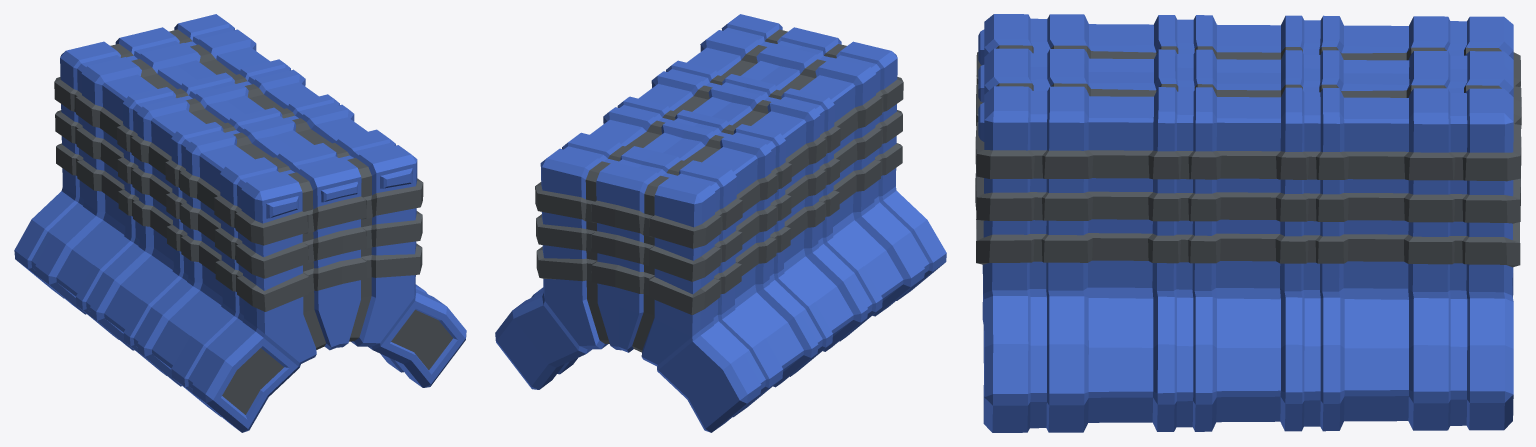
Rendered from Fighter_03_Engine_Blue.fbx.
3 renders of one model, left to right at view 1: azimuth 30°, elevation 25°; view 2: azimuth 150°, elevation 25°; view 3: azimuth 270°, elevation 25°, orthographic. The views are drawn at different scales.
Parts seen in each view (by area): view 1: Fighter_03_Engine_Blue; view 2: Fighter_03_Engine_Blue; view 3: Fighter_03_Engine_Blue.
Boxes of the visible parts, x1=… form: Fighter_03_Engine_Blue: x1=14, y1=14, x2=466, y2=432; Fighter_03_Engine_Blue: x1=495, y1=14, x2=946, y2=432; Fighter_03_Engine_Blue: x1=975, y1=14, x2=1521, y2=432.
Size of the model in its own units: 344 by 298 by 475.
Materials: 1 (1 with a texture image).
